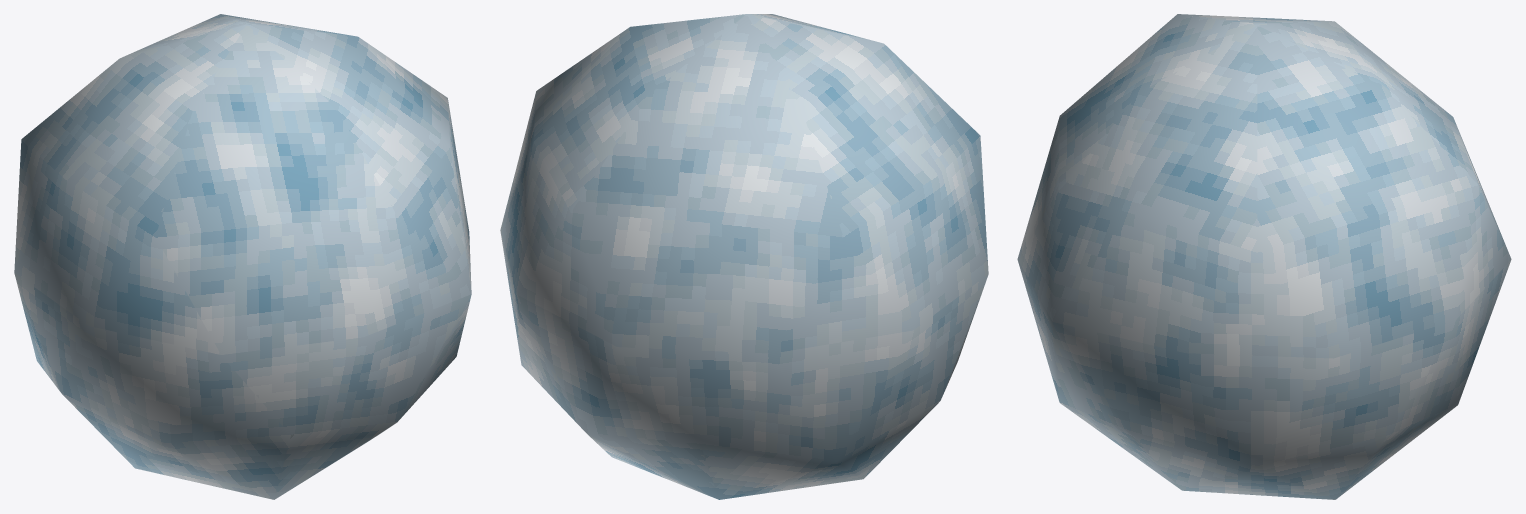
File: rollingsnowball.glb
The picture shows the model from 3 angles, left to right: view 1: azimuth 30°, elevation 25°; view 2: azimuth 150°, elevation 25°; view 3: azimuth 270°, elevation 25°; orthographic projection. The views are drawn at different scales.
Parts seen in each view (by area): view 1: snowball; view 2: snowball; view 3: snowball.
Part boxes in pixels (x1,y1,x2,y2): snowball: (14,14,471,499); snowball: (500,14,988,499); snowball: (1017,14,1511,499).
Size of the model in its own units: 0.9513 by 1.03 by 0.9983.
Materials: 1 (1 with a texture image).
